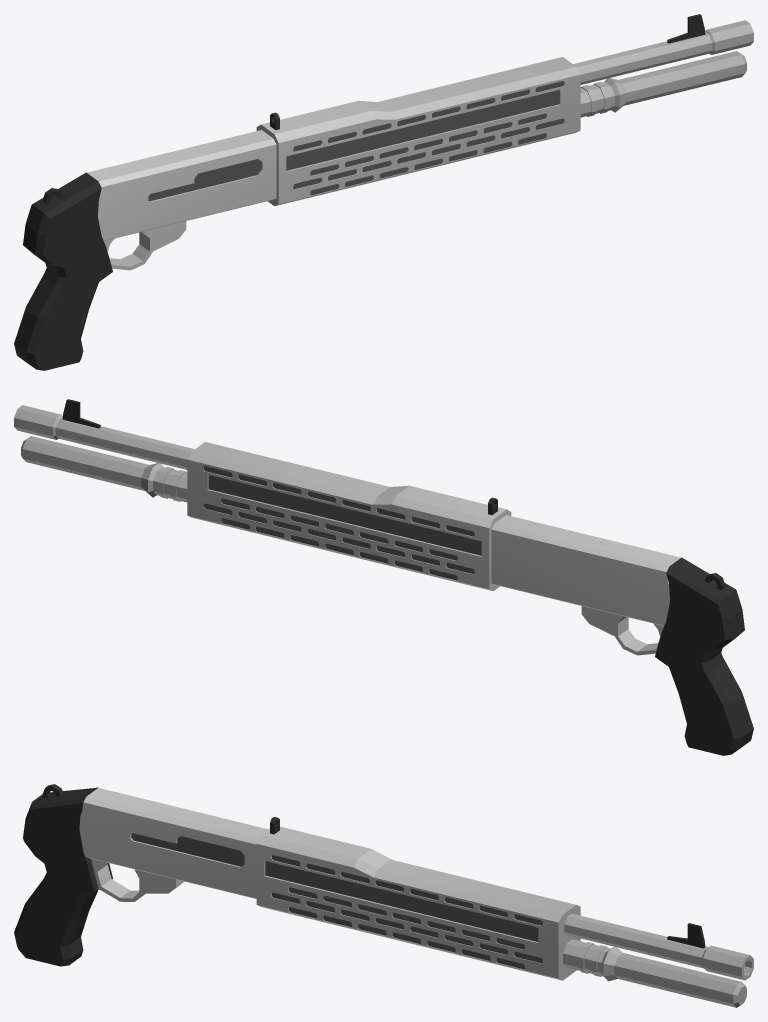
The model's file is Shotgun5_05.fbx.
The picture shows the model from 3 angles, top to bottom: view 1: azimuth 30°, elevation 25°; view 2: azimuth 150°, elevation 25°; view 3: azimuth 330°, elevation 25°; orthographic projection.
Parts seen in each view (by area): view 1: Shotgun5_05; view 2: Shotgun5_05; view 3: Shotgun5_05.
Part boxes in pixels (box(x1,y1,x2,y2)): Shotgun5_05: box(14, 14, 753, 370); Shotgun5_05: box(14, 399, 753, 755); Shotgun5_05: box(14, 784, 753, 1007).
Size of the model in its own units: 0.8358 by 0.2102 by 0.0437.
